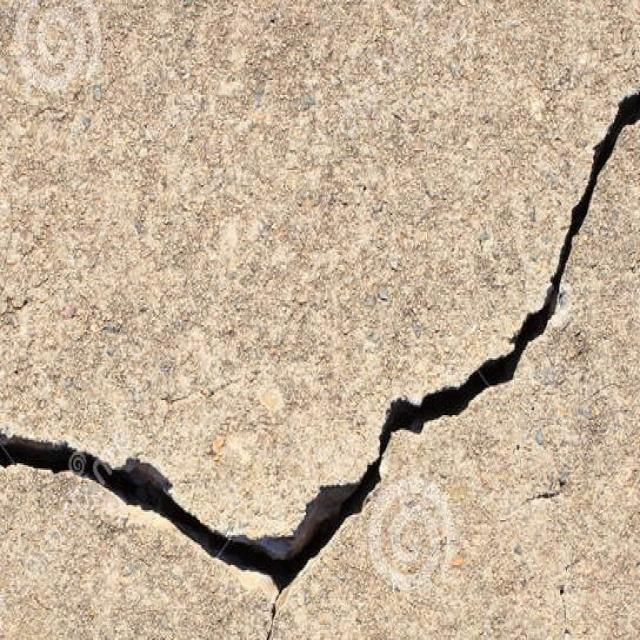crack: (363, 87, 639, 512), (0, 430, 362, 638)
